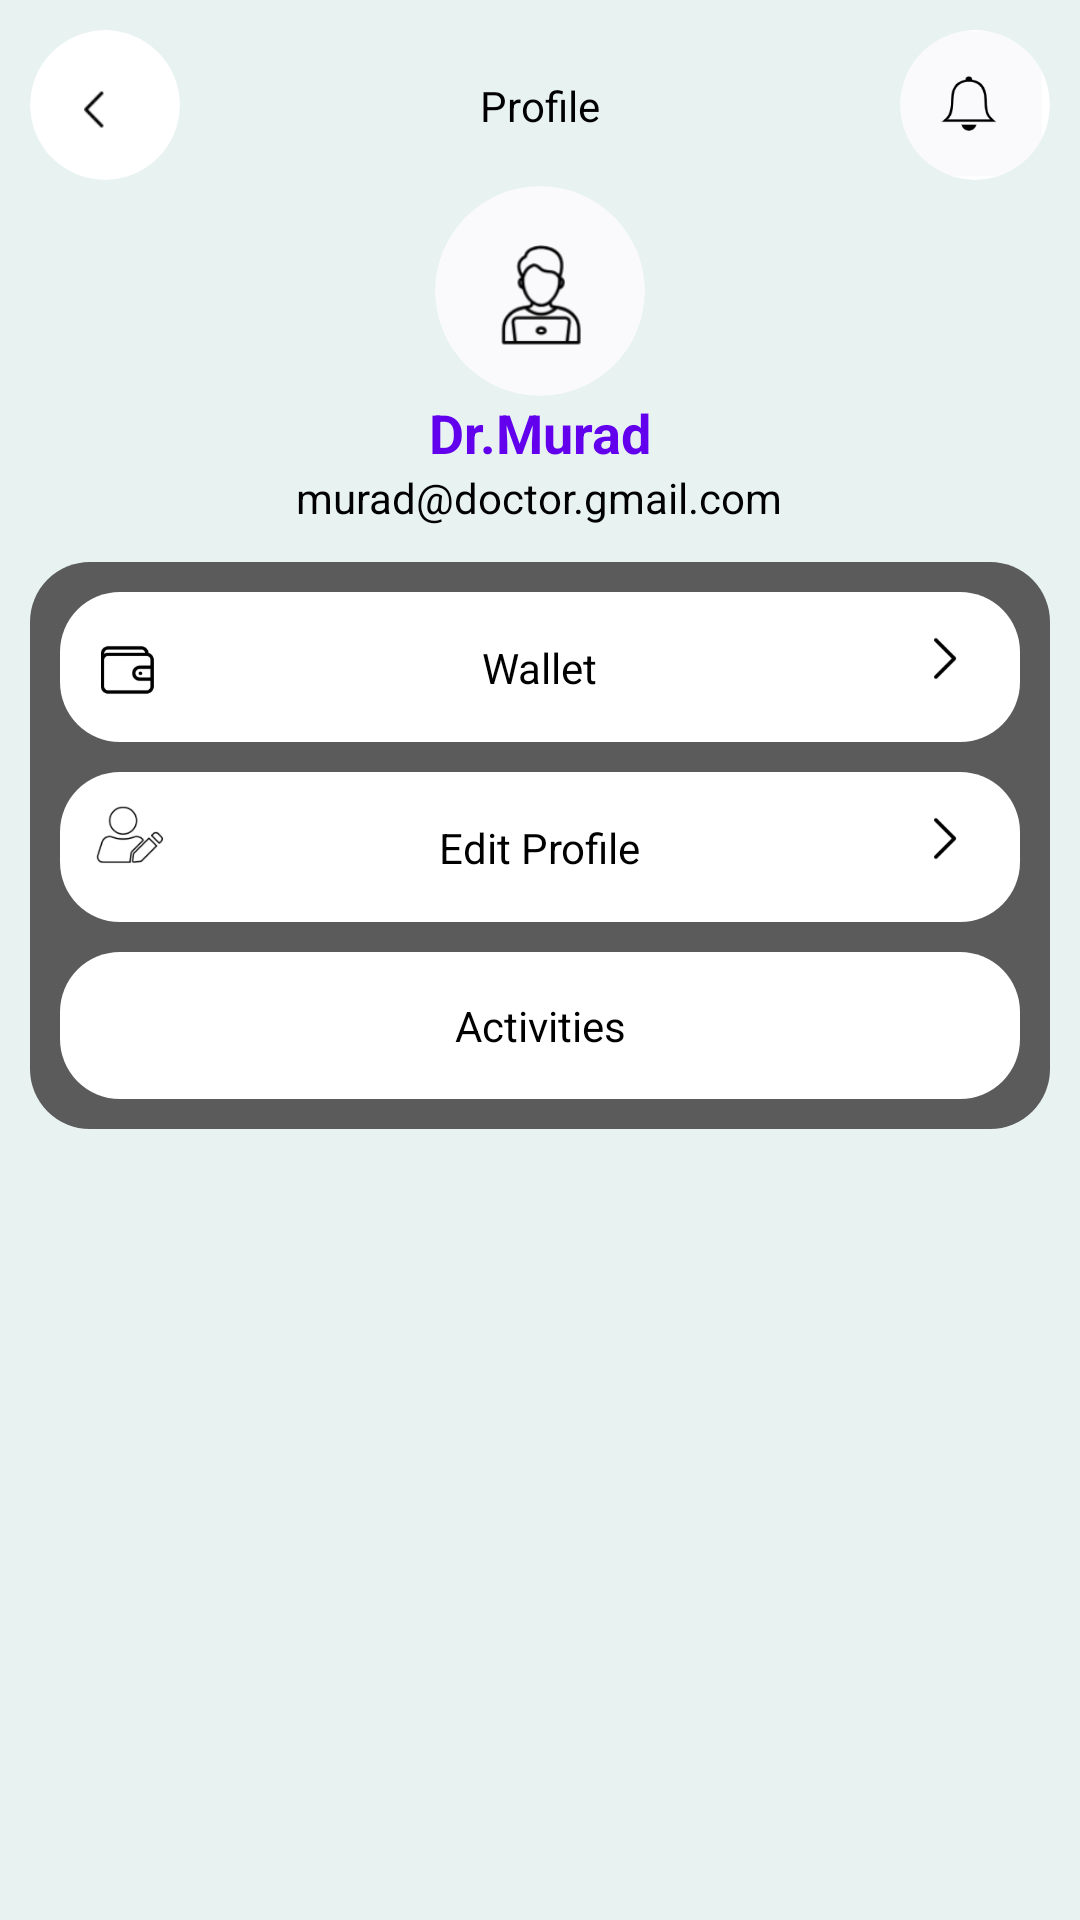

Icons on this 1080x1920 Android screen, each with its box as BBox(x1, y1, x2, y2):
back: BBox(30, 30, 180, 180)
bell: BBox(900, 30, 1050, 180)
edit profile: BBox(60, 772, 210, 922)
forward: BBox(870, 592, 1020, 742), BBox(870, 772, 1020, 922)
wallet: BBox(60, 592, 210, 742)
